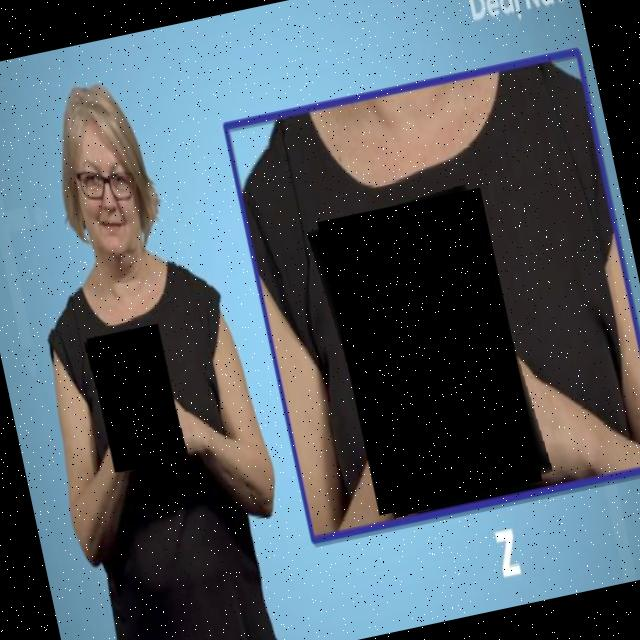Z: (312, 184, 550, 522), (86, 325, 189, 476)
